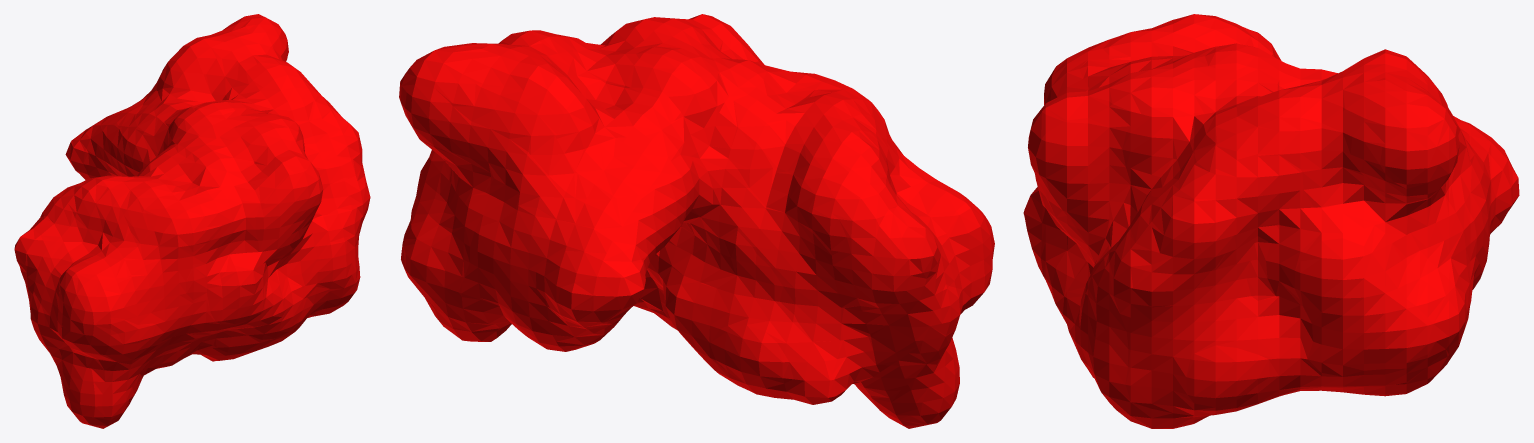
File: ybjX_coarse.dae
The picture shows the model from 3 angles, left to right: view 1: azimuth 30°, elevation 25°; view 2: azimuth 150°, elevation 25°; view 3: azimuth 270°, elevation 25°; orthographic projection. The views are drawn at different scales.
Parts seen in each view (by area): view 1: ybjX; view 2: ybjX; view 3: ybjX.
Part boxes in pixels (x1,y1,x2,y2): ybjX: [14, 14, 370, 428]; ybjX: [399, 14, 994, 428]; ybjX: [1023, 14, 1519, 428].
Bounding box in the file's own units: 66.29 × 53.04 × 56.57.
